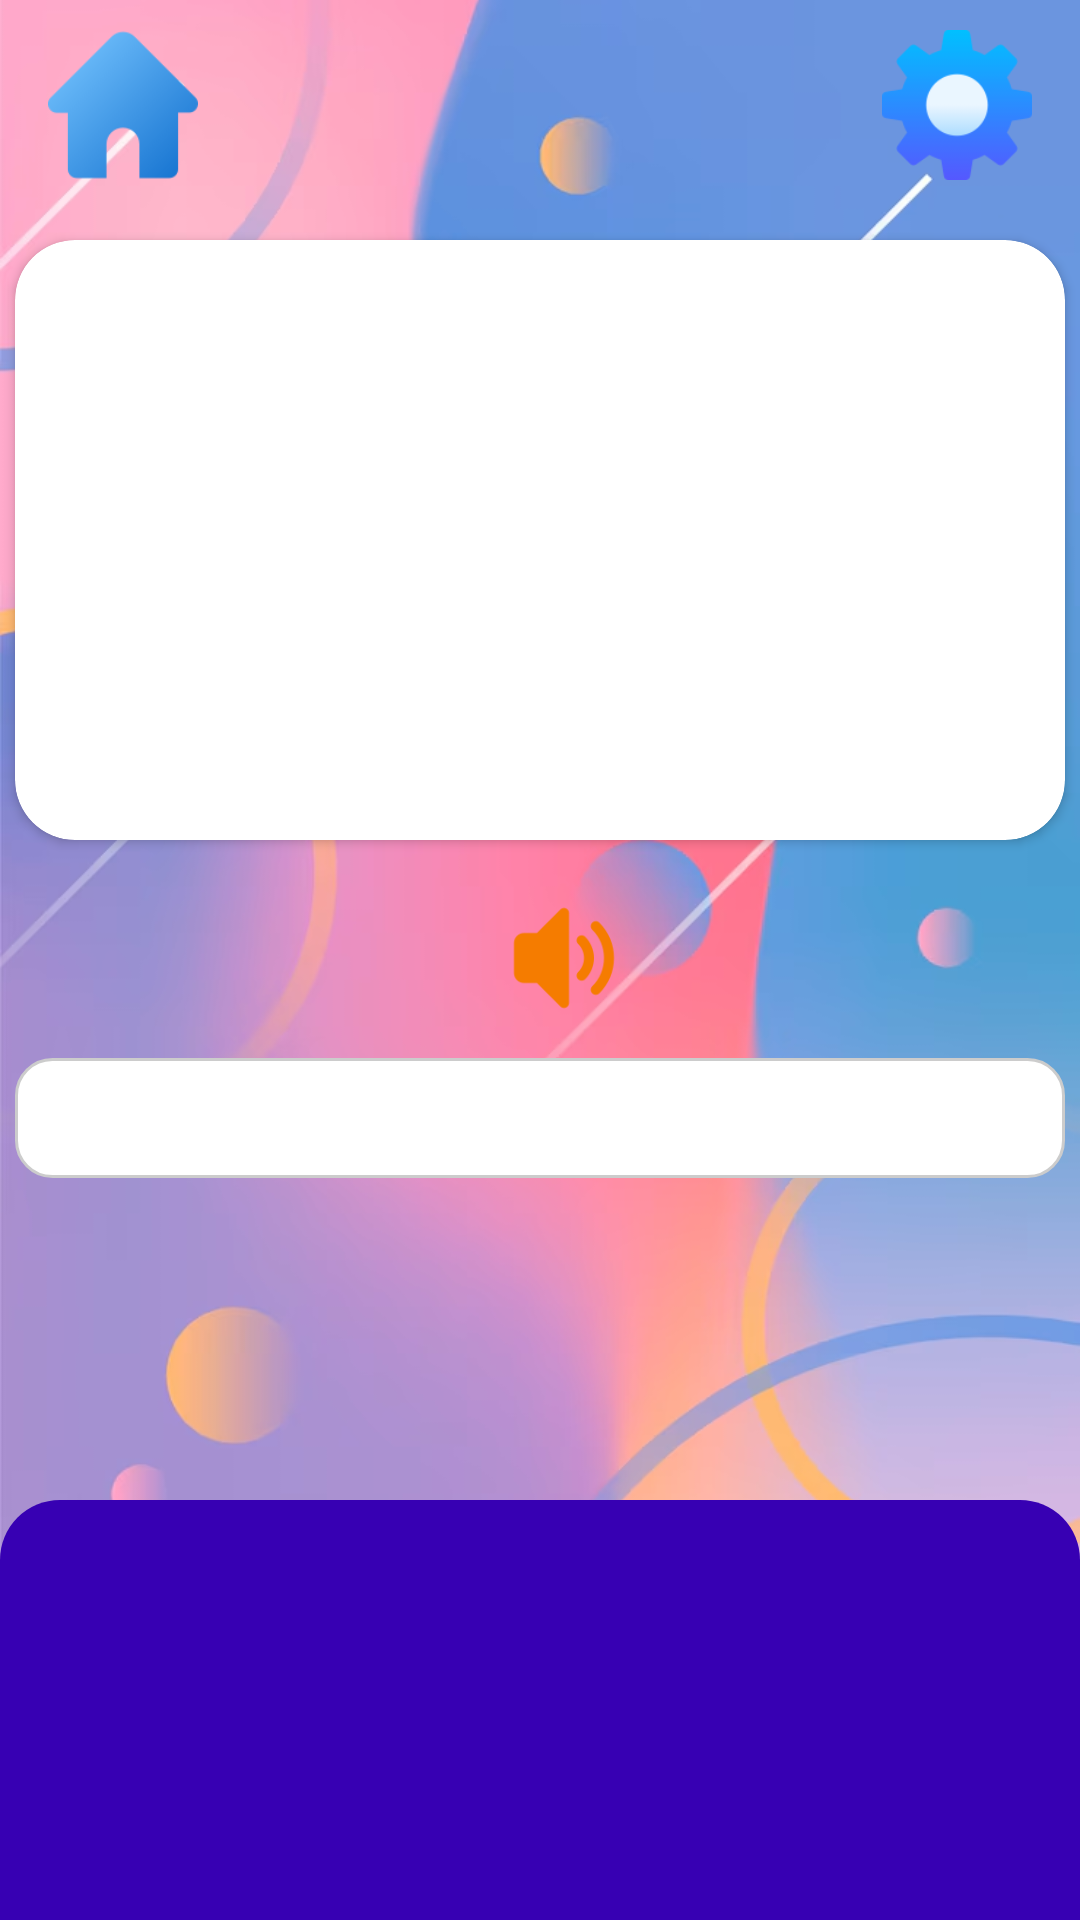

Locate icon controls on the screen. Image size 1080px x 1920px, boxes as (x1, y1, x2, y2).
Phát âm: (513, 907, 615, 1009)
Setting: (882, 30, 1032, 180)
Trang chủ: (48, 31, 198, 180)
